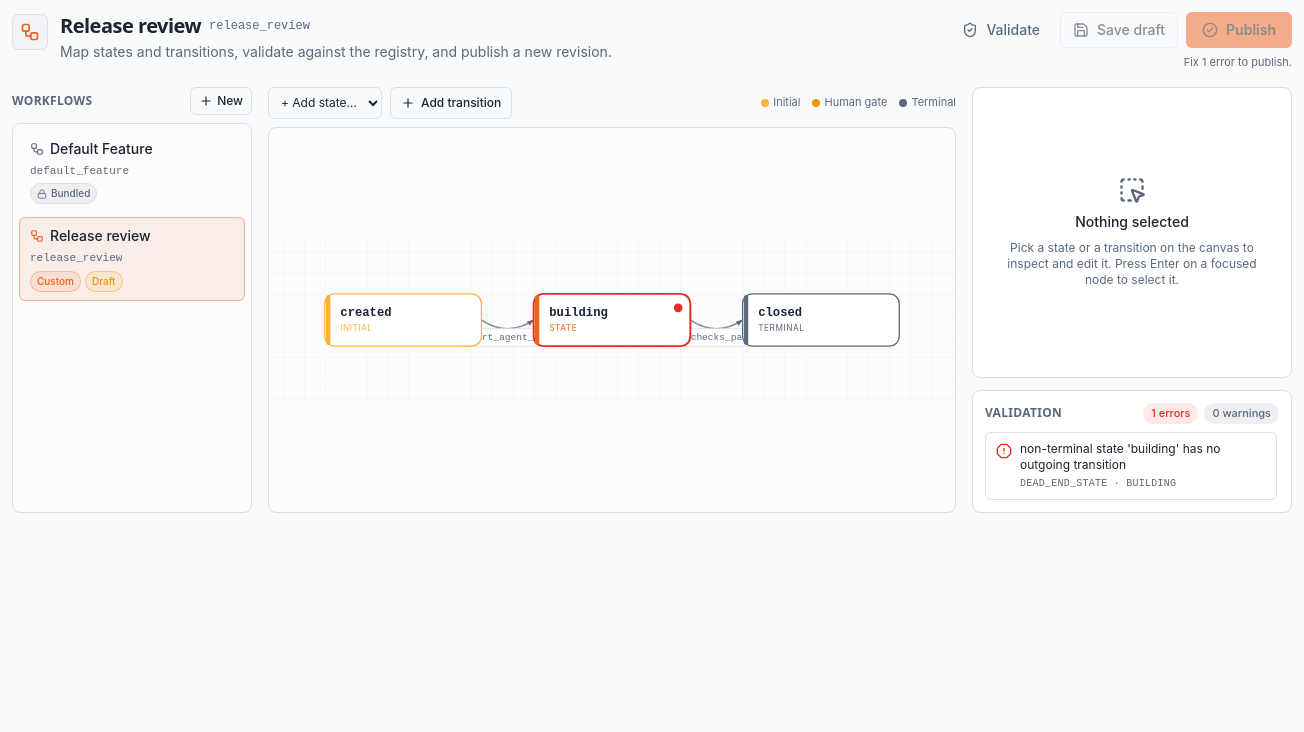
WorkflowEditor › adds a new state from the registry palette
expect the icon with test id "workflow-canvas" is shown: met, box [269, 128, 955, 512]
Select "spec_review" in the dropdown with test id "add-state" at (325, 102), box [268, 86, 382, 118]
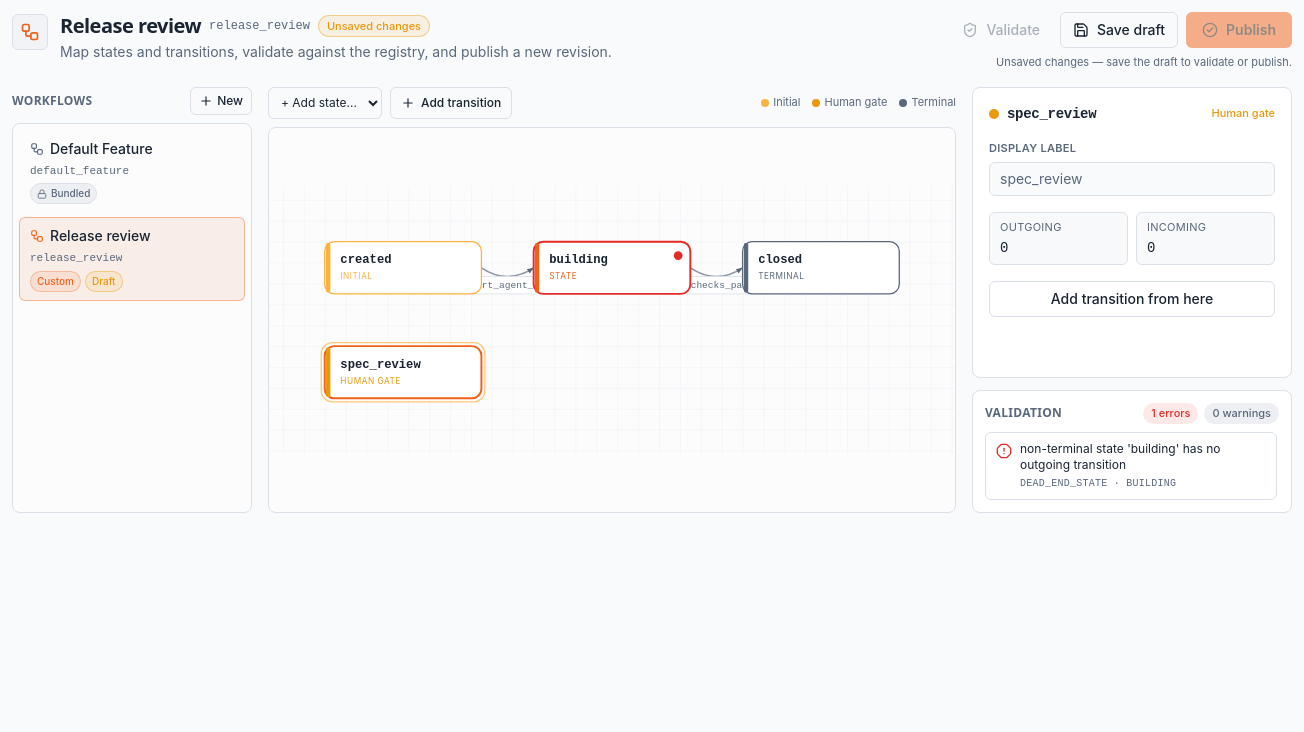
expect the element with test id "wf-node-spec_review" is shown: met, box [340, 357, 421, 385]
expect the text "Unsaved changes" is shown: met, box [318, 15, 430, 37]
